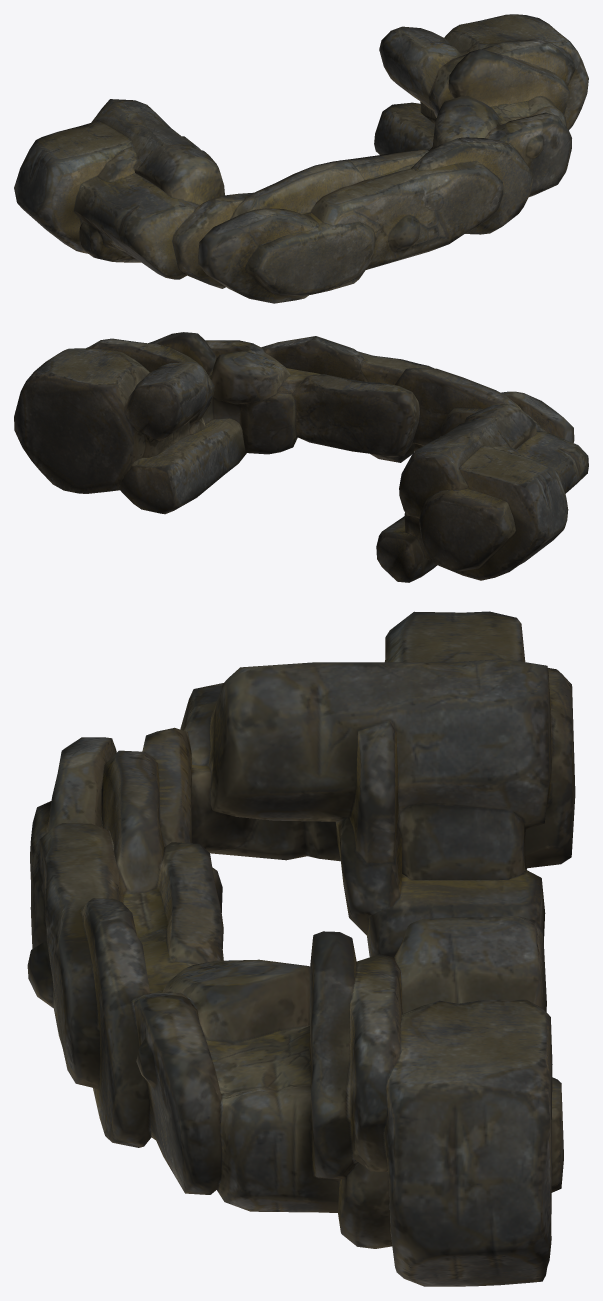
File: rock_arch_01.obj
3 views of the same model, one above another, from view 1: azimuth 30°, elevation 25°; view 2: azimuth 150°, elevation 25°; view 3: azimuth 270°, elevation 25° (orthographic). The views are drawn at different scales.
Parts seen in each view (by area): view 1: rock_arch_01; view 2: rock_arch_01; view 3: rock_arch_01.
Part boxes in pixels (left/top/right/bottom): rock_arch_01: left=14, top=14, right=588, bottom=303; rock_arch_01: left=14, top=332, right=588, bottom=582; rock_arch_01: left=27, top=611, right=575, bottom=1286.
Bounding box in the file's own units: 17.72 × 4.77 × 8.
1 material, 1 textured.
